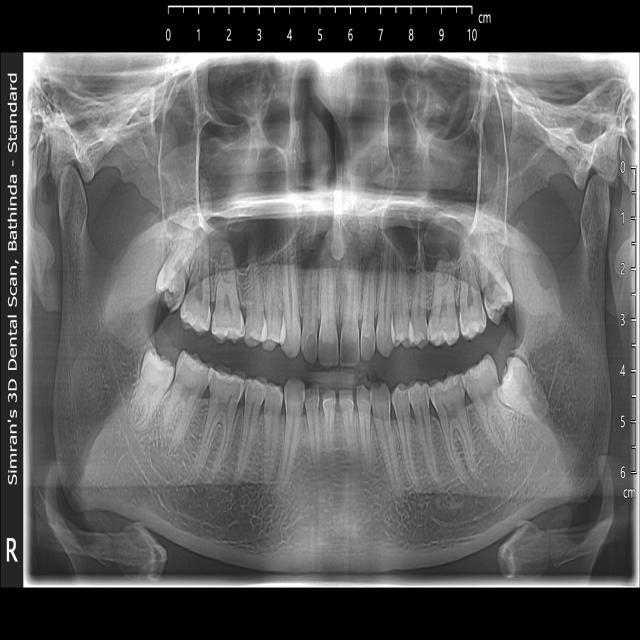impacted tooth: (496, 357, 552, 424), (130, 345, 174, 430), (154, 234, 195, 308), (484, 233, 513, 325)
